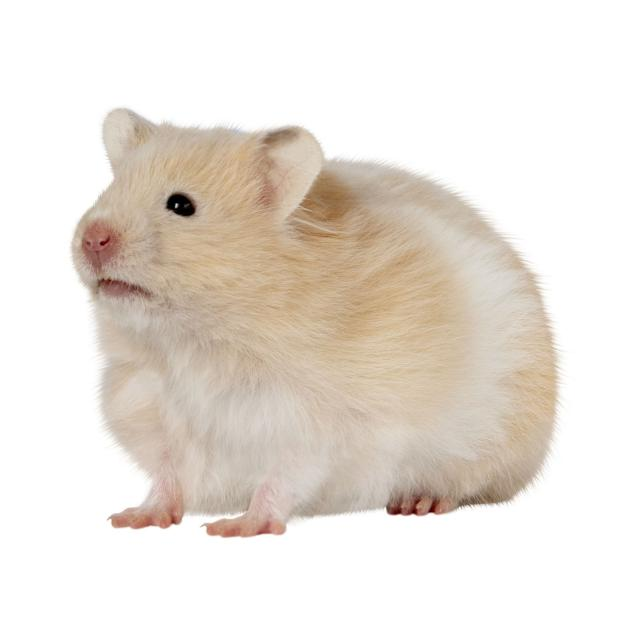hamster: (40, 108, 585, 554)
